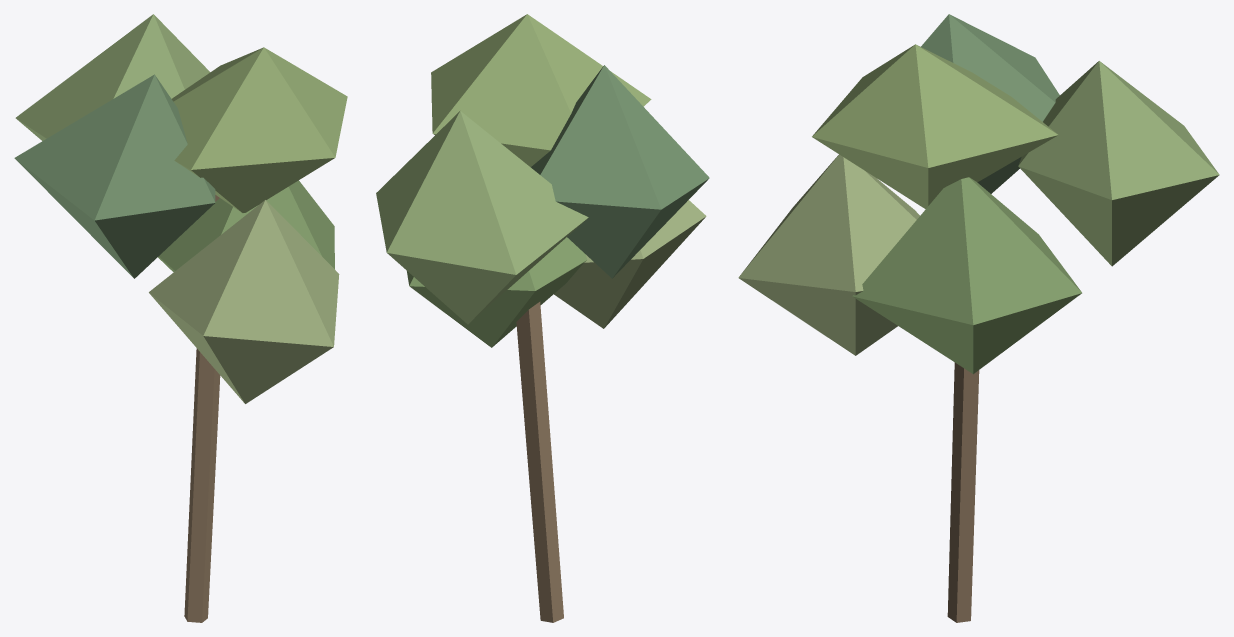
3 views of the same model, side by side, from view 1: azimuth 30°, elevation 25°; view 2: azimuth 150°, elevation 25°; view 3: azimuth 270°, elevation 25° (orthographic). The views are drawn at different scales.
Bounding box in the file's own units: 2.69 × 5.11 × 3.74.
